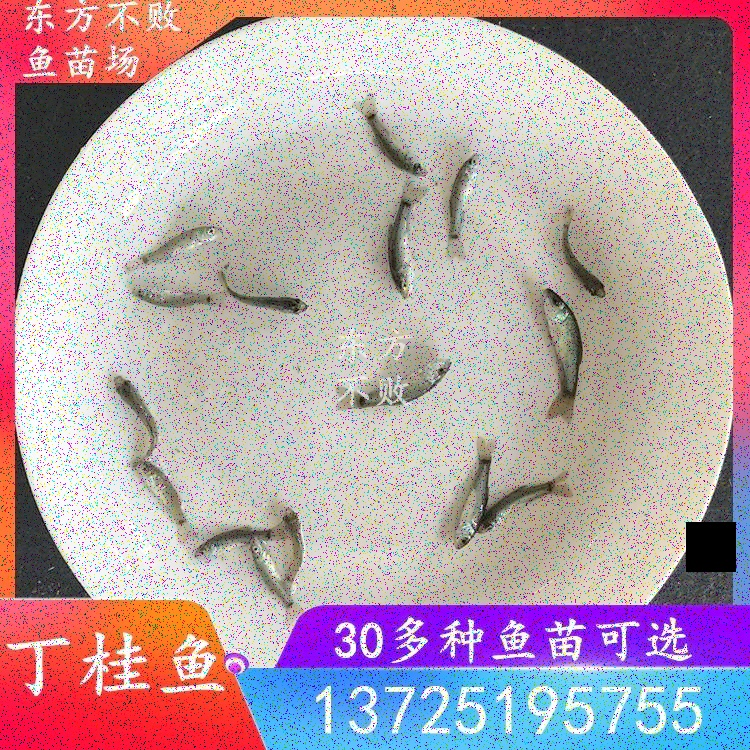fry: (349, 90, 439, 182), (536, 283, 592, 414), (437, 432, 490, 563), (361, 345, 457, 415), (121, 451, 190, 548), (437, 145, 497, 256), (374, 195, 428, 316), (483, 480, 580, 547), (97, 364, 167, 451), (558, 214, 621, 302), (113, 220, 236, 264), (133, 278, 235, 325), (241, 533, 293, 615), (276, 501, 327, 581), (192, 520, 285, 559), (234, 282, 309, 328)
